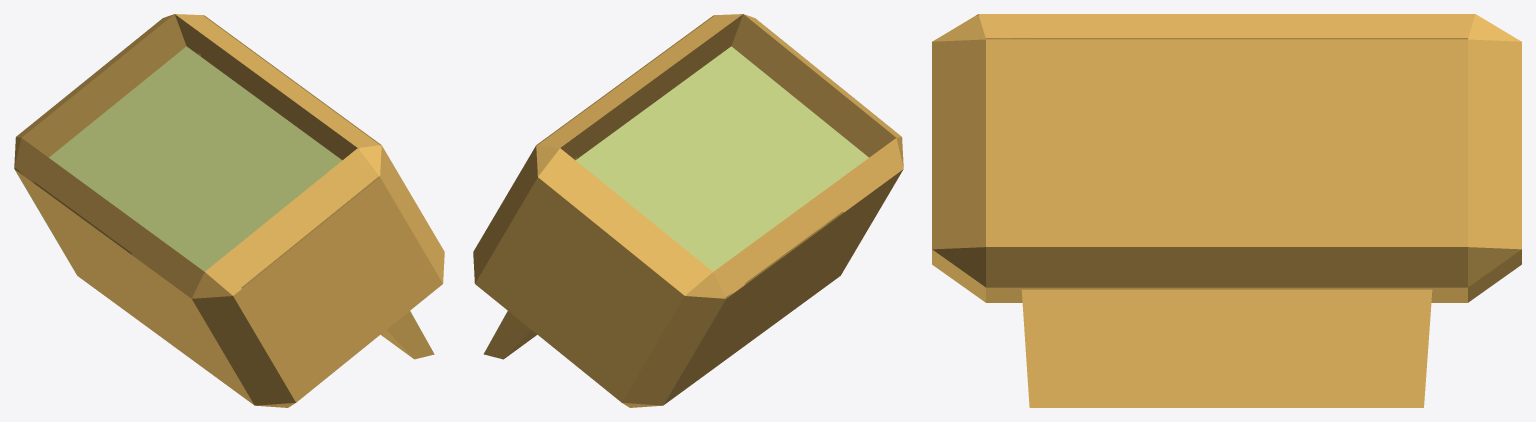
Rendered from Timer.fbx.
3 renders of one model, left to right at view 1: azimuth 30°, elevation 25°; view 2: azimuth 150°, elevation 25°; view 3: azimuth 270°, elevation 25°, orthographic. The views are drawn at different scales.
Parts seen in each view (by area): view 1: Timer; view 2: Timer; view 3: Timer.
Part boxes in pixels (bbox=[...]): Timer: bbox=[14, 14, 444, 407]; Timer: bbox=[473, 14, 903, 407]; Timer: bbox=[932, 14, 1521, 407].
Size of the model in its own units: 55.99 by 50.74 by 81.35.
